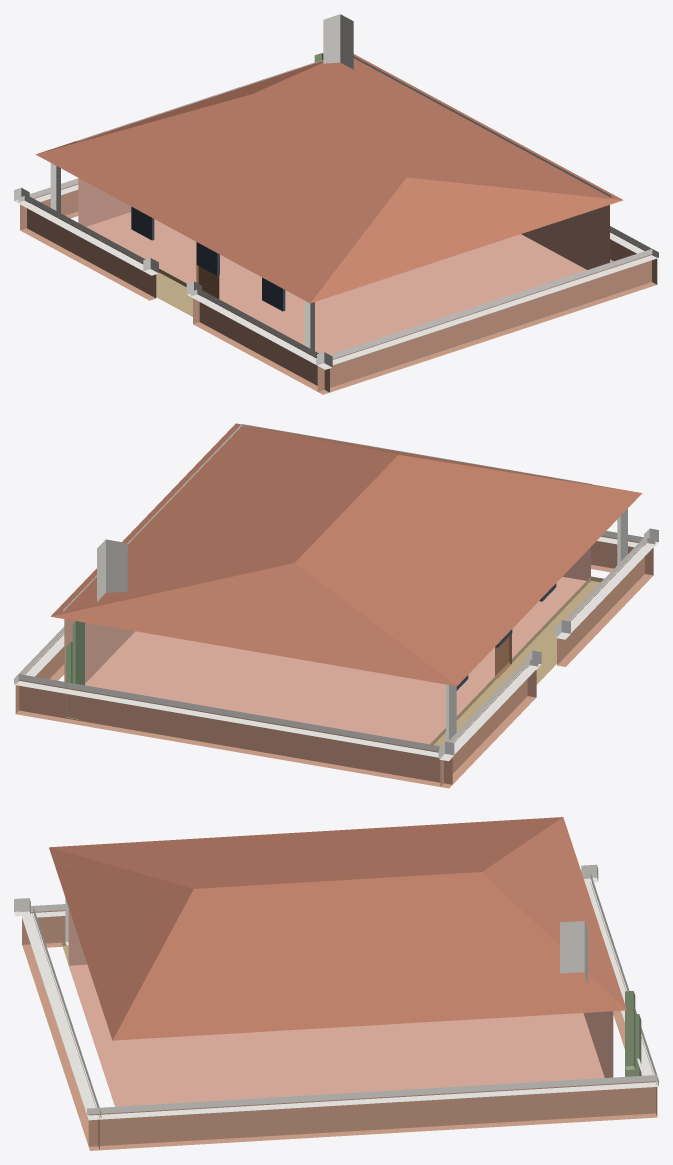
The model's file is cunucu_para_hip_a.glb.
3 renders of one model, top to bottom at view 1: azimuth 30°, elevation 25°; view 2: azimuth 150°, elevation 25°; view 3: azimuth 270°, elevation 25°, orthographic. The views are drawn at different scales.
Parts seen in each view (by area): view 1: cunucu_para_hip_a_lod0; view 2: cunucu_para_hip_a_lod0; view 3: cunucu_para_hip_a_lod0.
Part boxes in pixels (x1,y1,x2,y2): cunucu_para_hip_a_lod0: (14, 14, 658, 394); cunucu_para_hip_a_lod0: (14, 423, 658, 788); cunucu_para_hip_a_lod0: (14, 817, 658, 1150).
Size of what is drawn, in the model's own units: 16.06 by 5 by 18.11.
